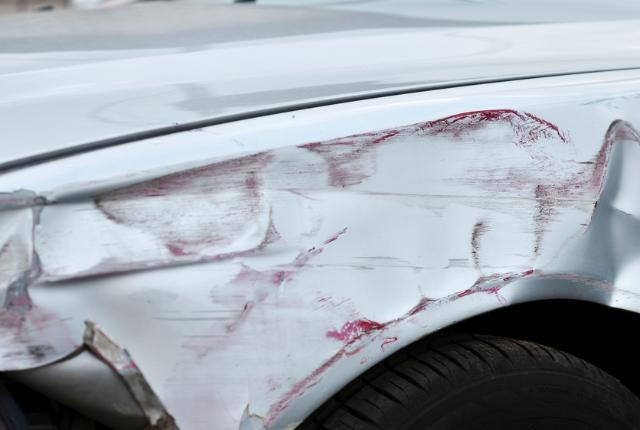Fender: (0, 126, 640, 392)
